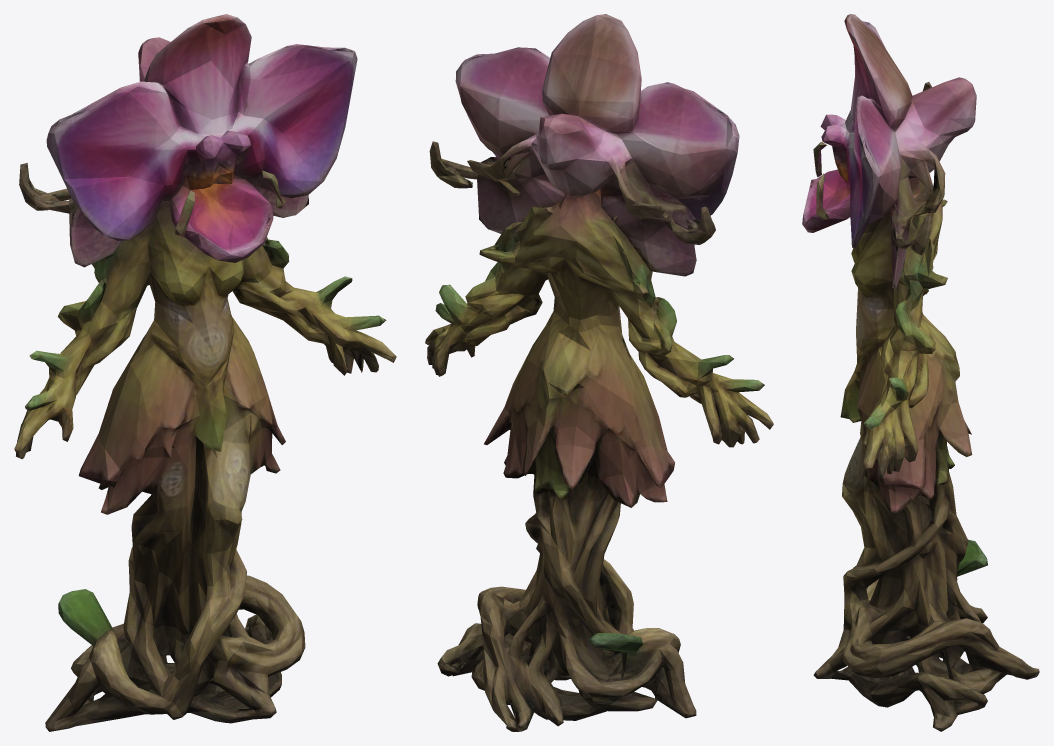
Rendered from orchidDryad.glb.
3 renders of one model, left to right at view 1: azimuth 30°, elevation 25°; view 2: azimuth 150°, elevation 25°; view 3: azimuth 270°, elevation 25°, orthographic. The views are drawn at different scales.
Visible parts, largest first — view 1: world; view 2: world; view 3: world.
Boxes of the visible parts, <box> form: world: <box>14,14,396,731</box>; world: <box>425,14,773,731</box>; world: <box>802,14,1039,731</box>.
Bounding box in the file's own units: 0.5477 × 0.9975 × 0.3198.
1 material, 1 textured.
